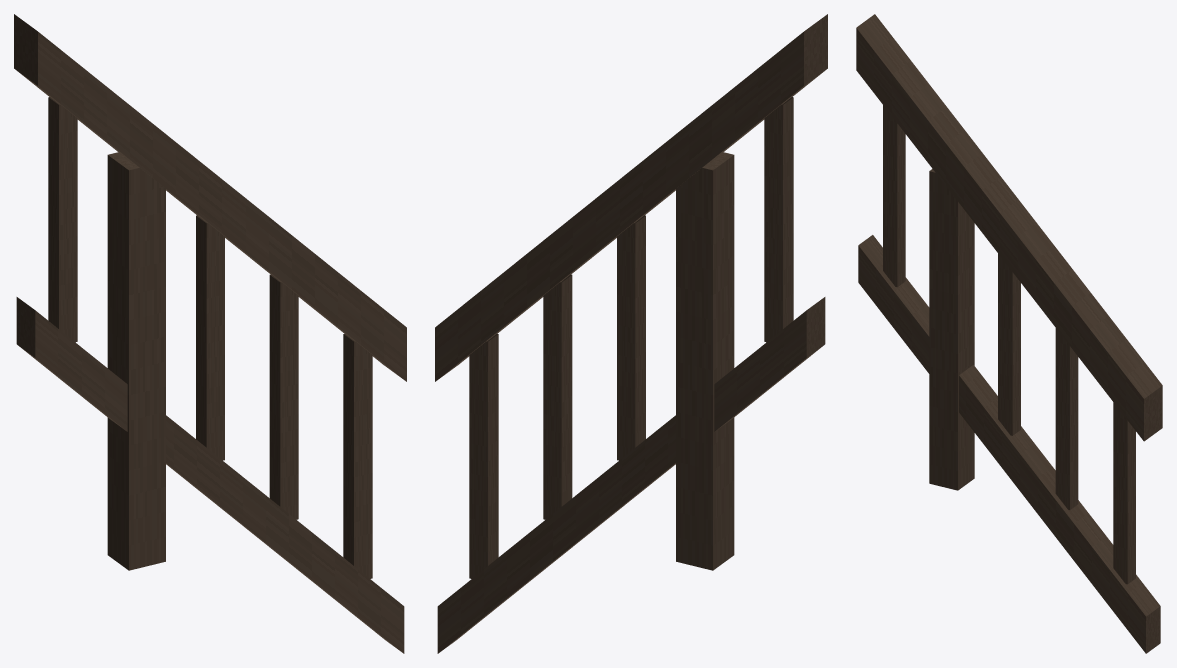
File: mid_neg.obj
The picture shows the model from 3 angles, left to right: view 1: azimuth 30°, elevation 25°; view 2: azimuth 150°, elevation 25°; view 3: azimuth 330°, elevation 25°; orthographic projection. The views are drawn at different scales.
Visible parts, largest first — view 1: railing_picket_bronze_mid_neg; view 2: railing_picket_bronze_mid_neg; view 3: railing_picket_bronze_mid_neg.
Boxes of the visible parts, bbox=[...] form: railing_picket_bronze_mid_neg: bbox=[14, 14, 406, 653]; railing_picket_bronze_mid_neg: bbox=[435, 14, 827, 653]; railing_picket_bronze_mid_neg: bbox=[856, 14, 1162, 653].
Size of the model in its own units: 1 by 1.85 by 0.1125.
